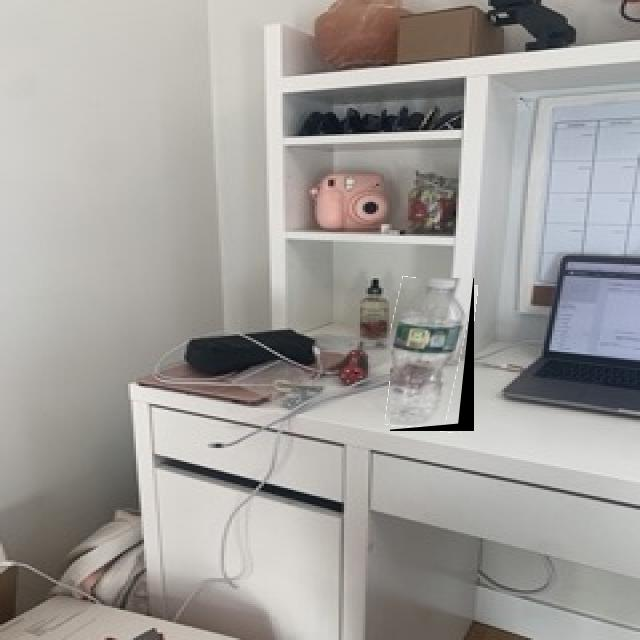water_bottle: (390, 278, 474, 431)
